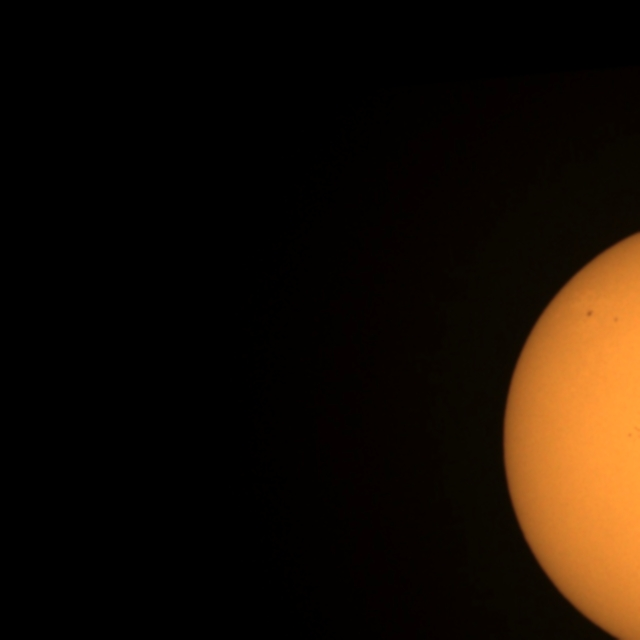sunspot: (584, 309, 620, 326), (626, 423, 639, 440), (585, 308, 594, 319), (612, 315, 620, 324), (627, 431, 635, 439)
